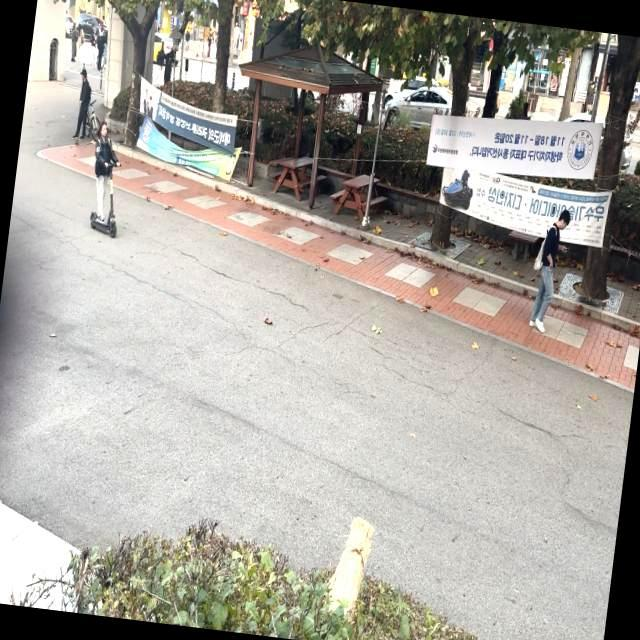bare_head: (94, 117, 112, 142)
human: (88, 113, 114, 220)
kickboard: (78, 201, 123, 244)
